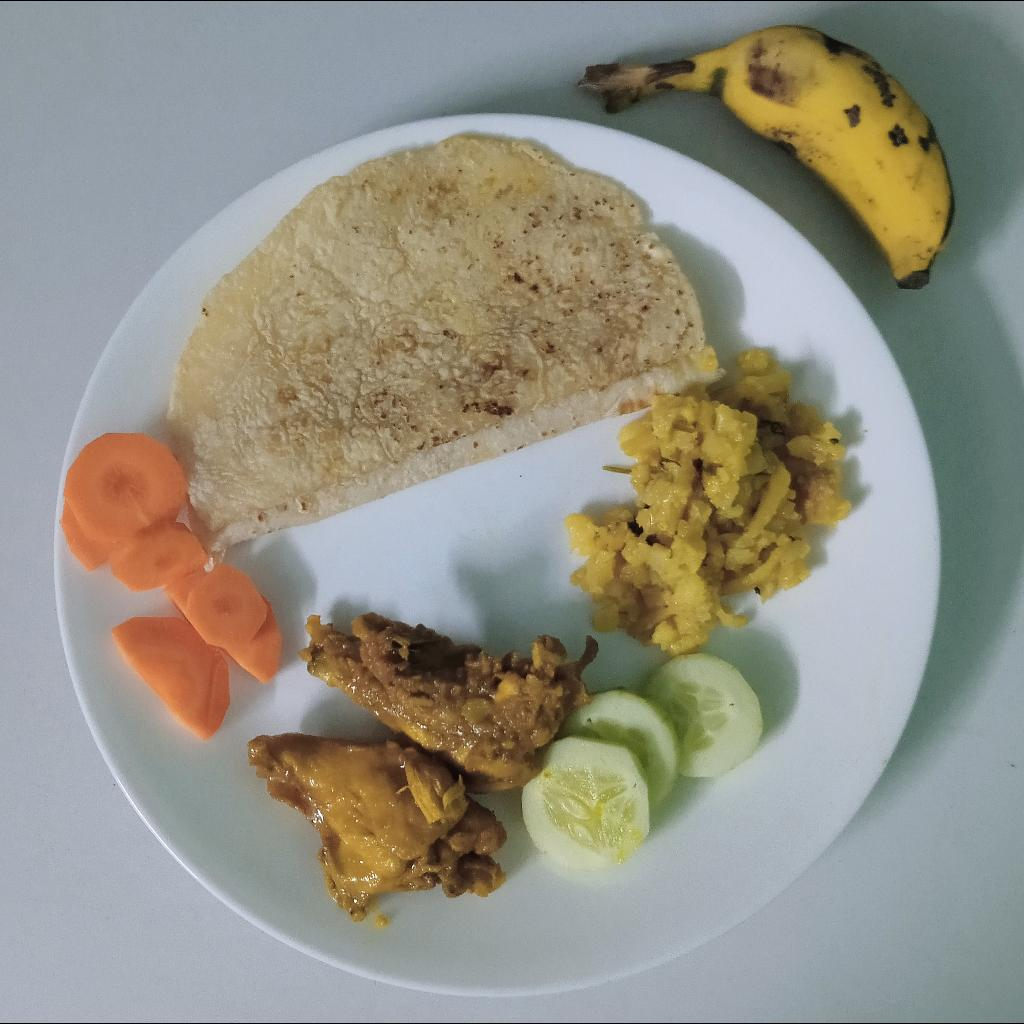banana: (575, 25, 953, 290)
carrot: (59, 428, 284, 736)
chicken: (247, 613, 598, 921)
cucumber: (521, 653, 766, 871)
ruti: (156, 141, 723, 556)
vegetable: (564, 349, 849, 655)
